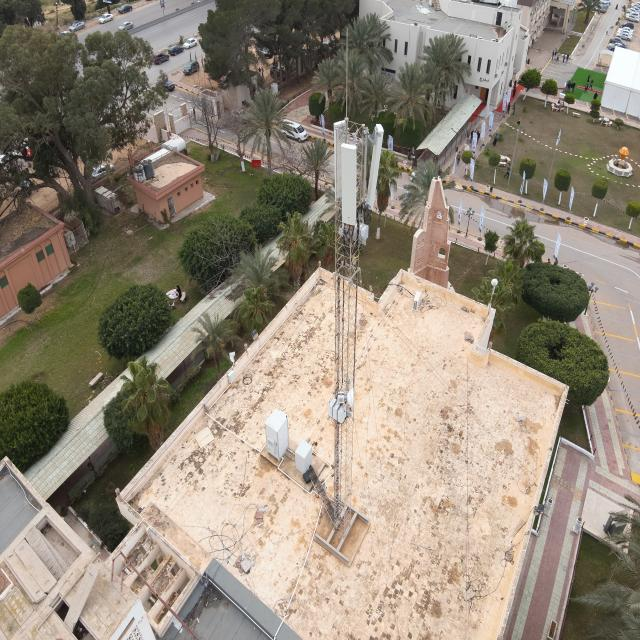antenna: (366, 123, 384, 211), (340, 143, 357, 226), (333, 120, 349, 207)
lighnig-rad: (346, 27, 348, 120)
microware-dish: (336, 386, 355, 409)
power-box: (327, 398, 347, 424)
radio-unit: (342, 219, 370, 245)
